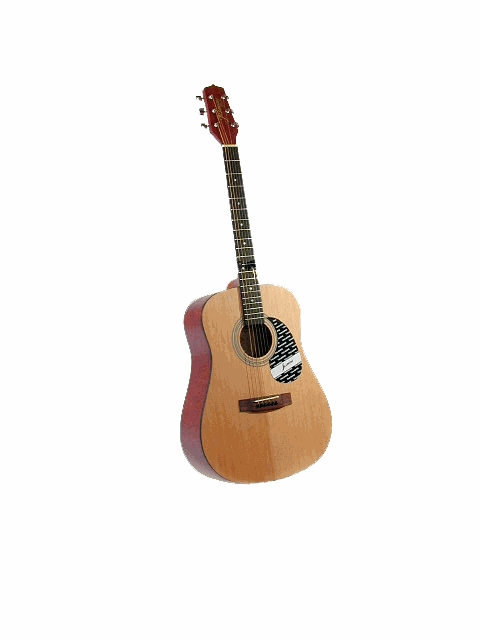guitar: (175, 83, 336, 487)
